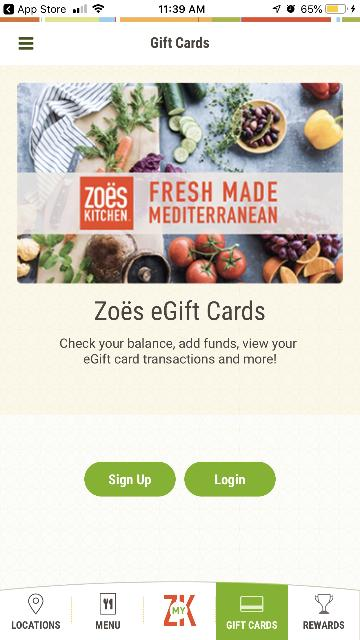Bottom_Navigation: (0, 580, 360, 640)
Icon: (314, 593, 334, 613), (240, 596, 264, 612), (100, 594, 116, 614), (29, 594, 44, 614), (18, 36, 33, 50)
Image: (17, 82, 342, 284), (79, 176, 133, 230), (164, 594, 196, 626)
Text: (61, 338, 298, 364), (149, 180, 277, 223), (95, 300, 265, 320), (150, 36, 210, 48), (109, 474, 151, 488), (226, 621, 278, 629), (216, 474, 244, 488), (12, 620, 60, 628), (304, 621, 344, 629), (96, 621, 120, 629)
TextButton: (84, 462, 176, 496), (184, 462, 276, 496)
TextImageButton: (12, 594, 61, 628), (226, 596, 278, 628), (304, 594, 344, 628), (96, 593, 120, 629)
Toolbar: (0, 17, 360, 64)
UpperTaskBar: (0, 1, 360, 16)
